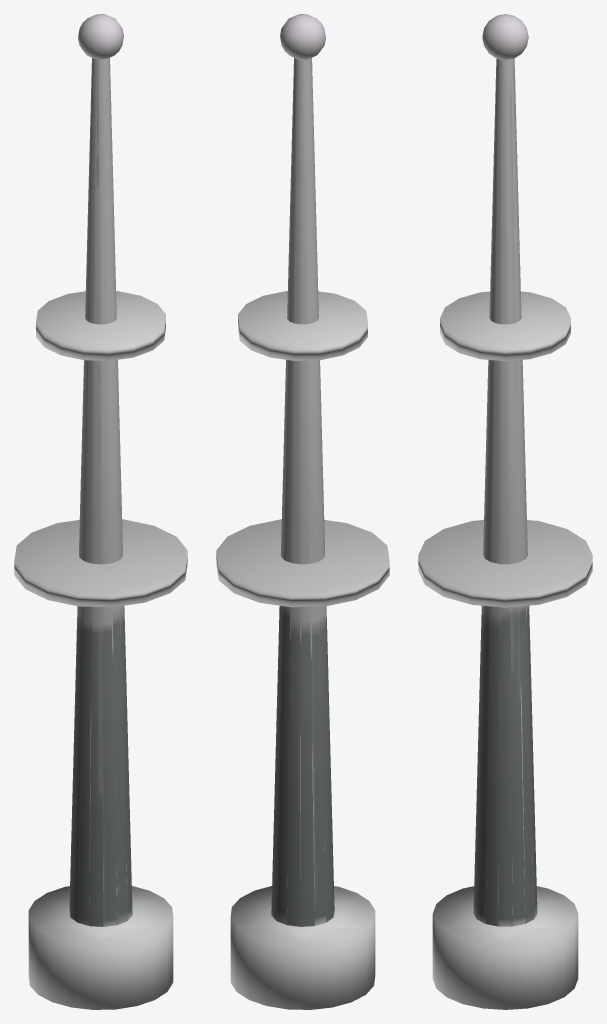
The model's file is SM_Antenne_Passerelle.glb.
3 views of the same model, side by side, from view 1: azimuth 30°, elevation 25°; view 2: azimuth 150°, elevation 25°; view 3: azimuth 270°, elevation 25° (orthographic).
Bounding box in the file's own units: 0.3283 × 2 × 0.3283.
Materials: 1 (1 with a texture image).
